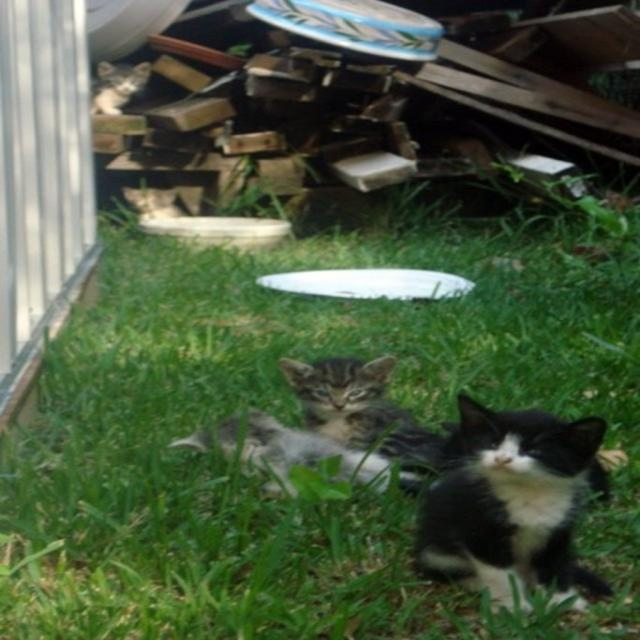Cat: (412, 391, 608, 618), (164, 398, 402, 499), (276, 356, 452, 474)
